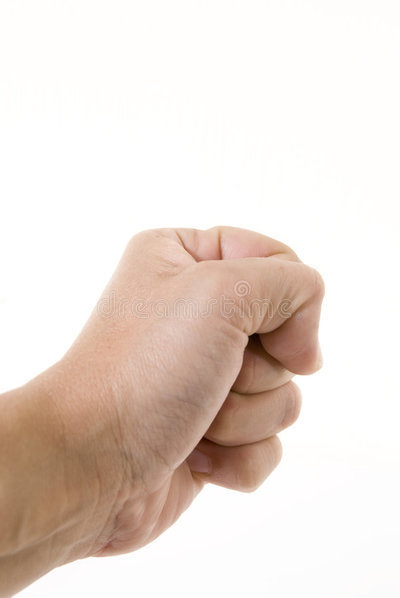closedhandfront: (76, 213, 346, 573)
